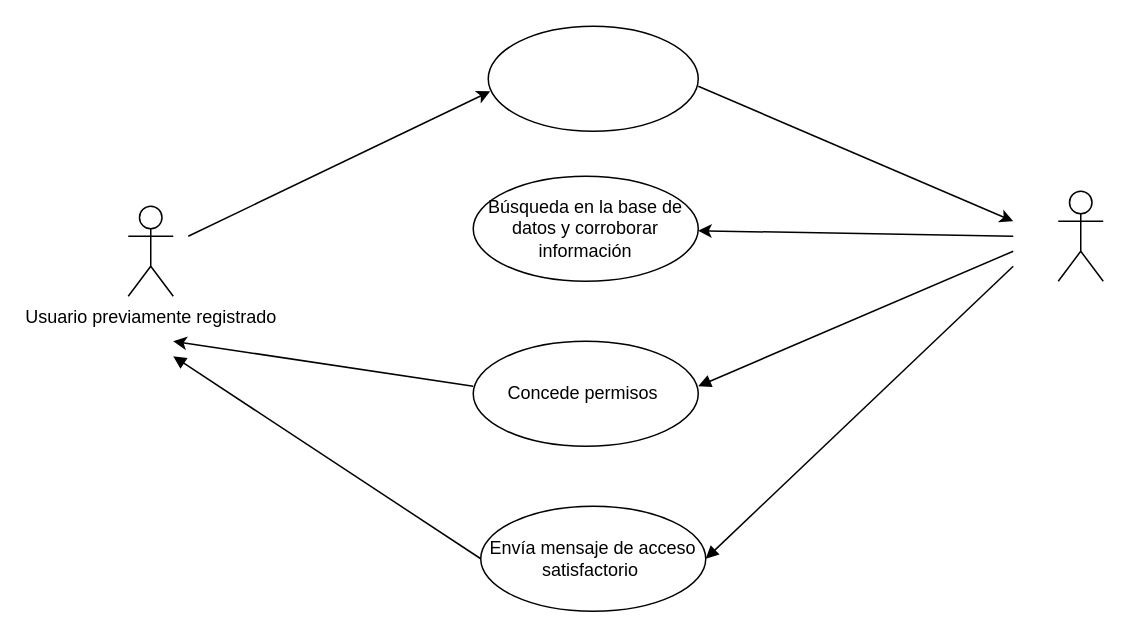
Image size: 1139x638. Some labels were removed from this diagram. Each missing label, with the centre of its shape:
Ingresar la informacion: point 592,78
Sistema: point 1080,235
